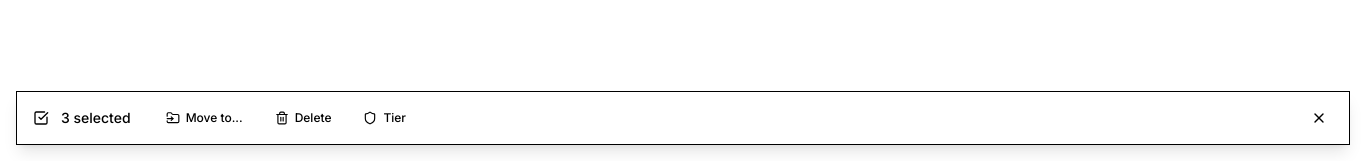
Test: BatchActionBar › "Delete" shows confirmation dialog
Click the button "Delete".
click(303, 118)  # box [265,104,342,132]
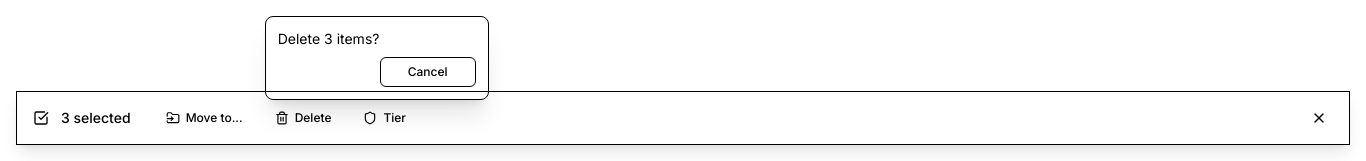
expect the text "Delete 3 items?" is shown: met, box [278,30,380,47]
